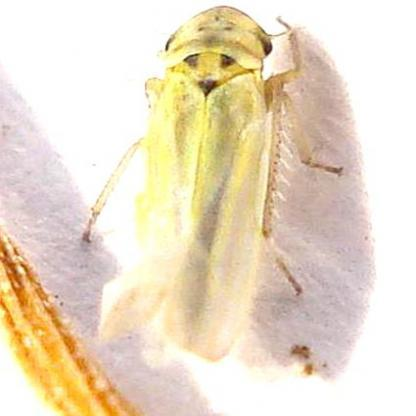green-leafhopper: (123, 9, 315, 346)
